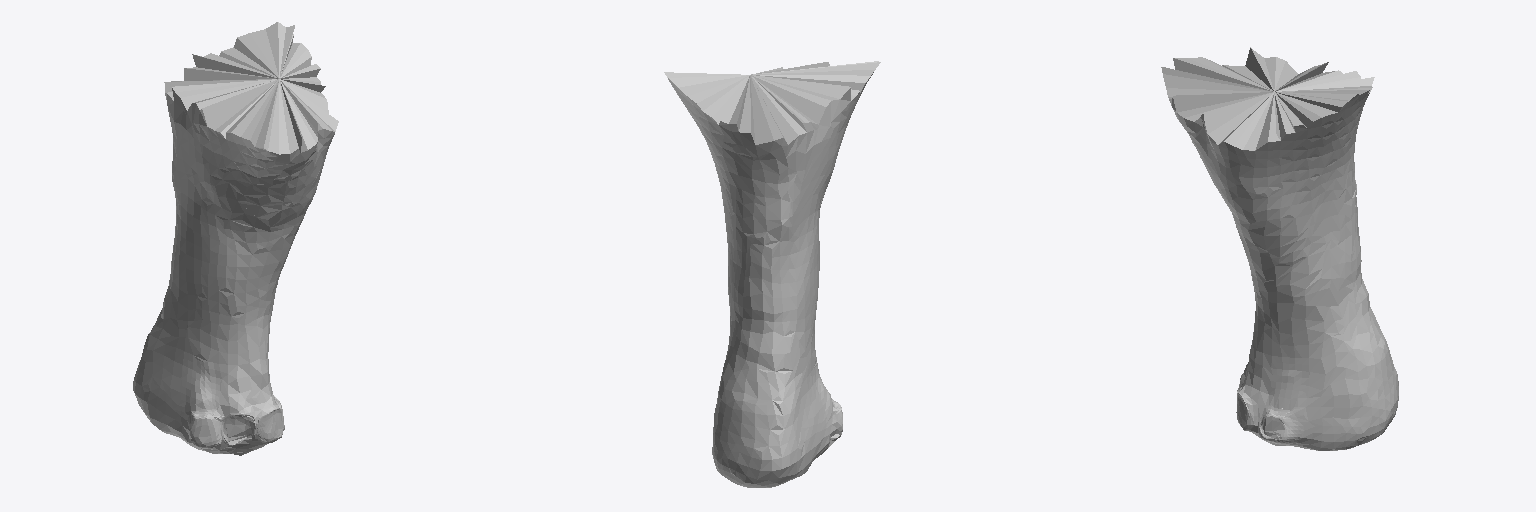
File: pata_TrasIzq.obj
3 views of the same model, side by side, from view 1: azimuth 30°, elevation 25°; view 2: azimuth 150°, elevation 25°; view 3: azimuth 270°, elevation 25° (orthographic).
Parts seen in each view (by area): view 1: pata_TrasIzq; view 2: pata_TrasIzq; view 3: pata_TrasIzq.
Part boxes in pixels (left/top/right/bottom): pata_TrasIzq: left=133, top=22, right=338, bottom=455; pata_TrasIzq: left=664, top=61, right=880, bottom=487; pata_TrasIzq: left=1161, top=47, right=1398, bottom=450.
Size of the model in its own units: 33.98 by 85.26 by 48.